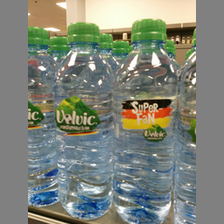water: (112, 19, 179, 224), (51, 22, 115, 220), (28, 27, 59, 208)
